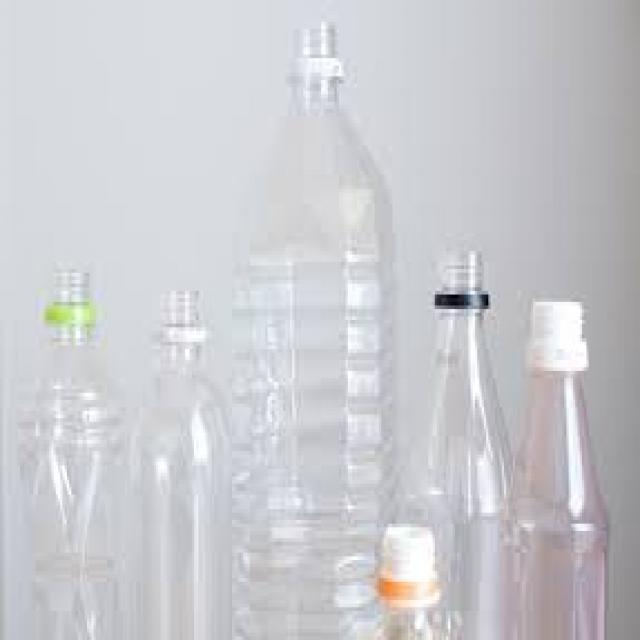Plastic: (234, 23, 398, 640), (17, 255, 132, 639), (404, 246, 511, 640), (136, 284, 235, 640), (511, 295, 609, 640), (380, 521, 470, 640)
